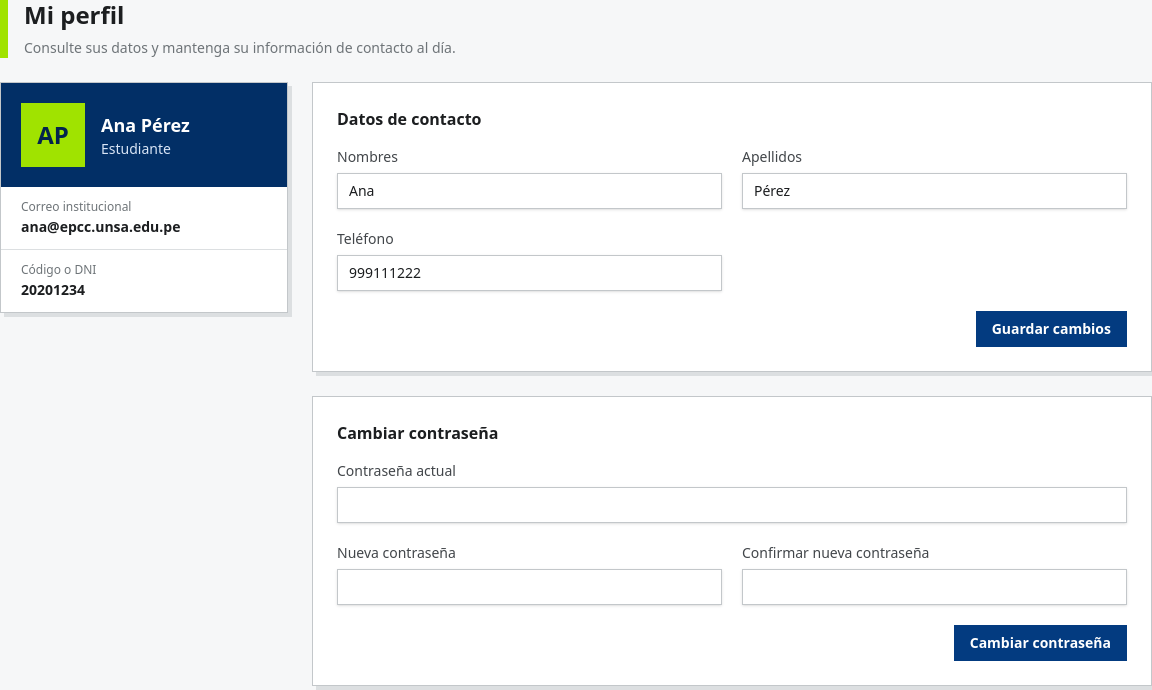
Test: ProfilePage › actualiza el contacto y refresca el nombre de la sesión
This screenshot has width=1152, height=690.
Check: the text "ana@epcc.unsa.edu.pe" is shown, box top-left (21, 217), bottom-right (180, 236)
Step 1. Replace the text in the field labelled "Nombres" with "Anita" → x=530, y=191, box top-left (337, 173), bottom-right (722, 209)
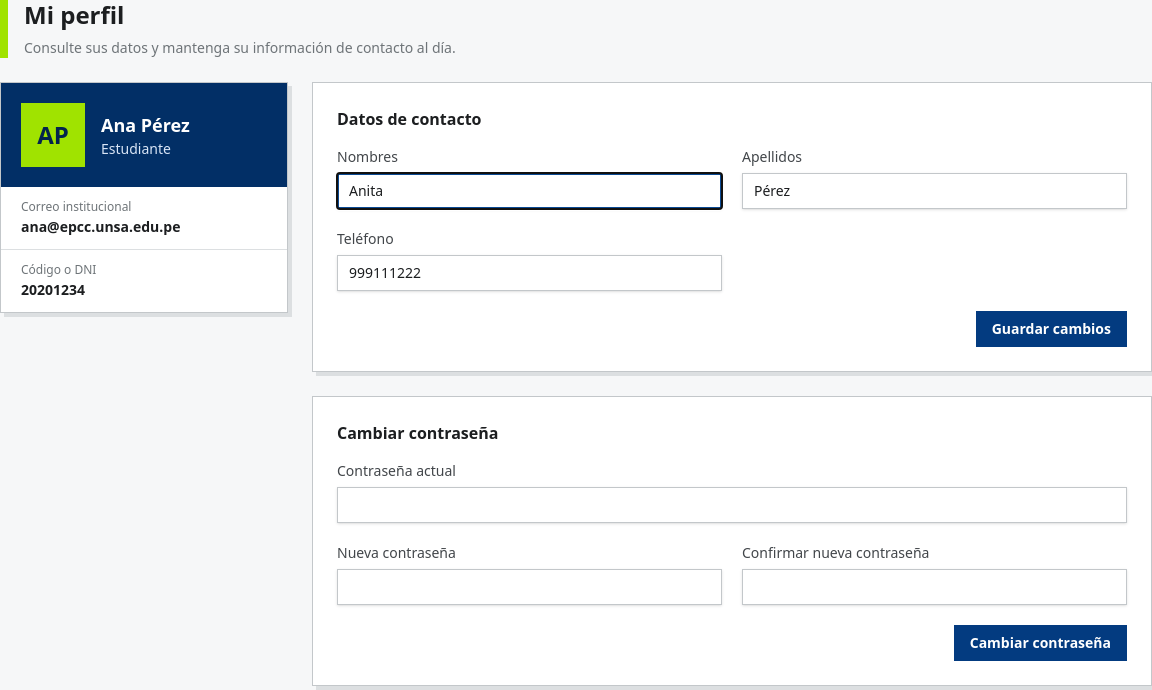
Step 2. Click the button "Guardar cambios" → x=1051, y=329, box top-left (976, 311), bottom-right (1127, 347)
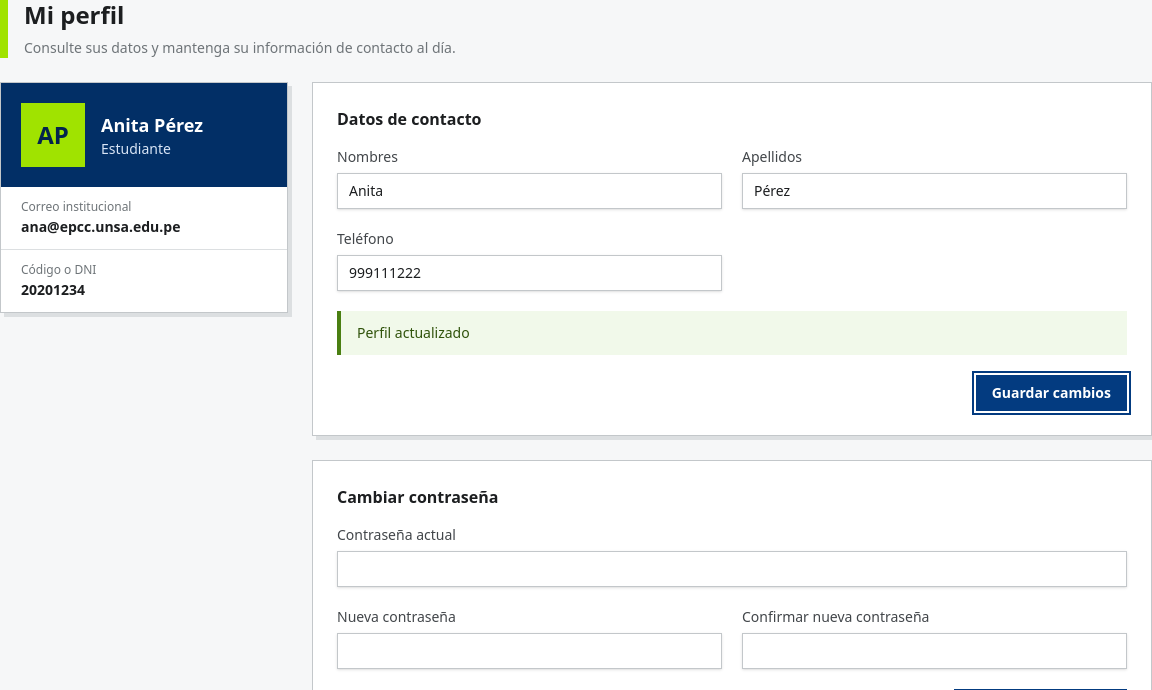
Check: the text "Perfil actualizado" is shown, box top-left (337, 311), bottom-right (1127, 355)
